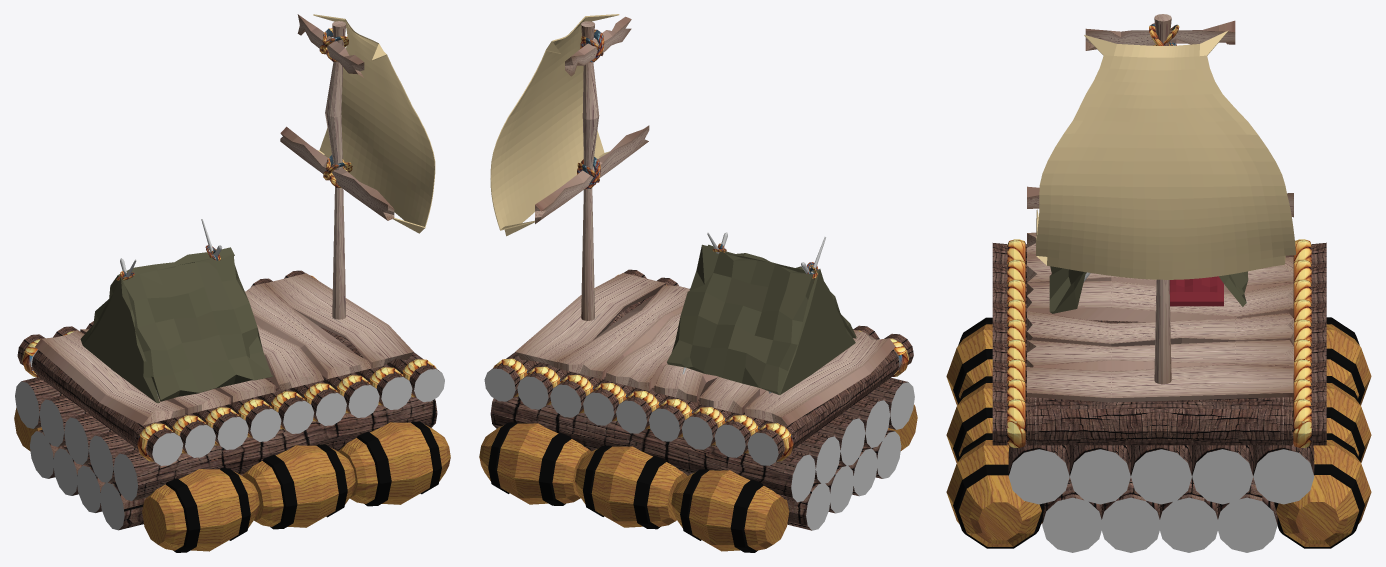
Rendered from JangadaDefinitiva.fbx.
3 views of the same model, side by side, from view 1: azimuth 30°, elevation 25°; view 2: azimuth 150°, elevation 25°; view 3: azimuth 270°, elevation 25° (orthographic). The views are drawn at different scales.
Parts seen in each view (by area): view 1: Barris Boias, Tenda, Tabuas, Tronco Superior, Tronco Inferior 1, Plane, Tronco Inferior 2, Cordas dos Troncos, Mastro, Tabua do Mastro 1, Tabua do Mastro 2; view 2: Barris Boias, Tabuas, Tenda, Tronco Superior, Tronco Inferior 1, Plane, Tronco Inferior 2, Cordas dos Troncos, Mastro, Tabua do Mastro 1, Tabua do Mastro 2; view 3: Plane, Tabuas, Barris Boias, Tronco Superior, Tronco Inferior 1, Tronco Inferior 2, Cordas dos Troncos, Mastro, Tenda, Tabua do Mastro 2, Cama.
Part boxes in pixels (x1=…): Barris Boias: x1=14, y1=408, x2=450, y2=552; Tenda: x1=80, y1=247, x2=273, y2=403; Tabuas: x1=35, y1=273, x2=413, y2=425; Tronco Superior: x1=17, y1=270, x2=444, y2=465; Tronco Inferior 1: x1=15, y1=377, x2=437, y2=500; Plane: x1=313, y1=14, x2=435, y2=233; Tronco Inferior 2: x1=30, y1=429, x2=242, y2=530; Cordas dos Troncos: x1=22, y1=275, x2=436, y2=461; Mastro: x1=325, y1=21, x2=346, y2=319; Tabua do Mastro 1: x1=280, y1=126, x2=394, y2=220; Tabua do Mastro 2: x1=297, y1=14, x2=364, y2=77; Barris Boias: x1=479, y1=404, x2=917, y2=552; Tabuas: x1=515, y1=273, x2=895, y2=425; Tenda: x1=667, y1=244, x2=856, y2=394; Tronco Superior: x1=484, y1=269, x2=913, y2=465; Tronco Inferior 1: x1=490, y1=378, x2=914, y2=502; Plane: x1=490, y1=14, x2=619, y2=236; Tronco Inferior 2: x1=787, y1=429, x2=901, y2=530; Cordas dos Troncos: x1=493, y1=274, x2=908, y2=461; Mastro: x1=581, y1=21, x2=599, y2=320; Tabua do Mastro 1: x1=535, y1=125, x2=649, y2=223; Tabua do Mastro 2: x1=565, y1=16, x2=631, y2=76; Plane: x1=1036, y1=30, x2=1295, y2=279; Tabuas: x1=1027, y1=232, x2=1293, y2=402; Barris Boias: x1=946, y1=317, x2=1371, y2=548; Tronco Superior: x1=992, y1=242, x2=1326, y2=445; Tronco Inferior 1: x1=1008, y1=444, x2=1314, y2=504; Tronco Inferior 2: x1=1042, y1=477, x2=1277, y2=552; Cordas dos Troncos: x1=1007, y1=239, x2=1311, y2=447; Mastro: x1=1154, y1=14, x2=1171, y2=384; Tenda: x1=1049, y1=266, x2=1248, y2=313; Tabua do Mastro 2: x1=1085, y1=20, x2=1235, y2=50; Cama: x1=1169, y1=276, x2=1223, y2=306.
Bounding box in the file's own units: 617 × 803 × 586.
